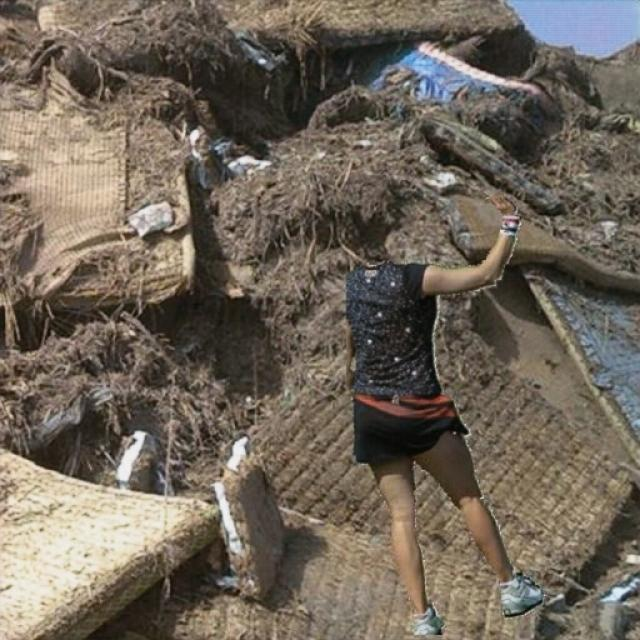Person in Rubble: (346, 197, 544, 634)
